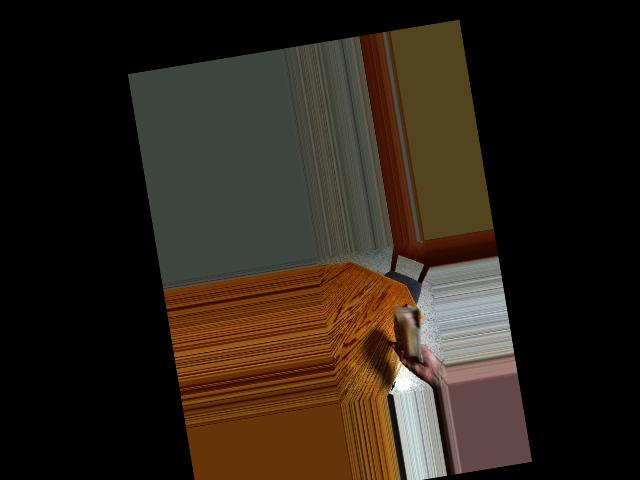cheese: (384, 303, 431, 361)
